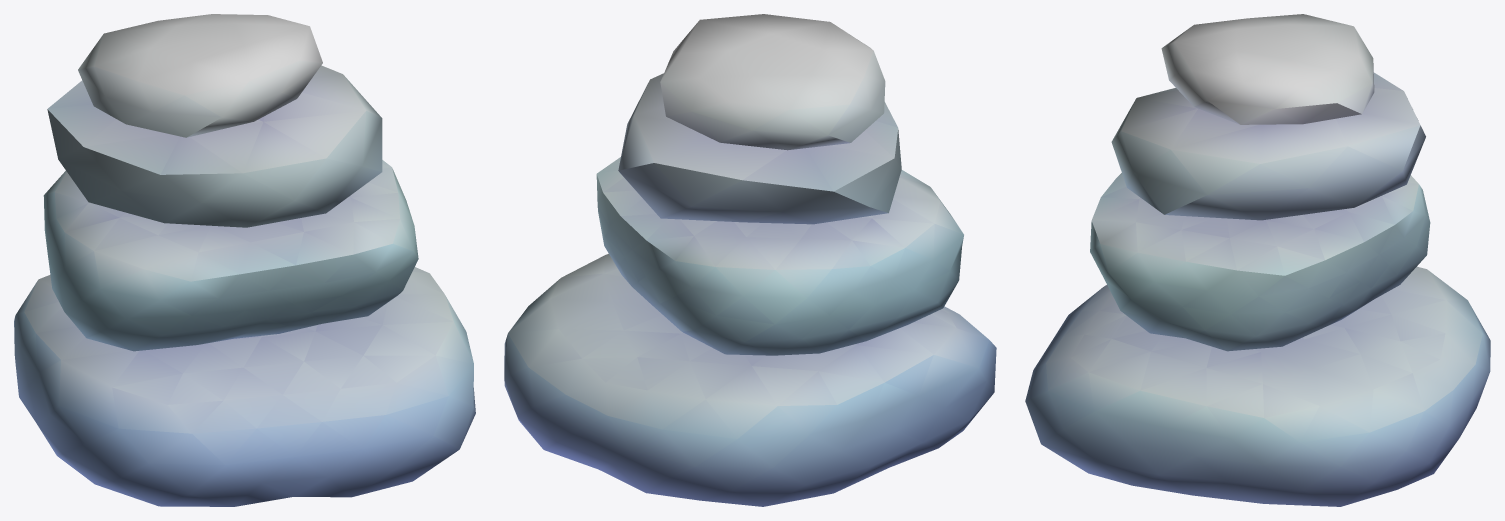
The model's file is glass_rock_cairn_a.glb.
3 renders of one model, left to right at view 1: azimuth 30°, elevation 25°; view 2: azimuth 150°, elevation 25°; view 3: azimuth 270°, elevation 25°, orthographic. The views are drawn at different scales.
Parts seen in each view (by area): view 1: glass_rock_cairn_a; view 2: glass_rock_cairn_a; view 3: glass_rock_cairn_a.
Boxes of the visible parts, x1,y1,x2,y2 form: glass_rock_cairn_a: (14, 14, 475, 506); glass_rock_cairn_a: (504, 14, 996, 506); glass_rock_cairn_a: (1025, 14, 1490, 506).
Size of the model in its own units: 1.19 by 1.07 by 1.2.
